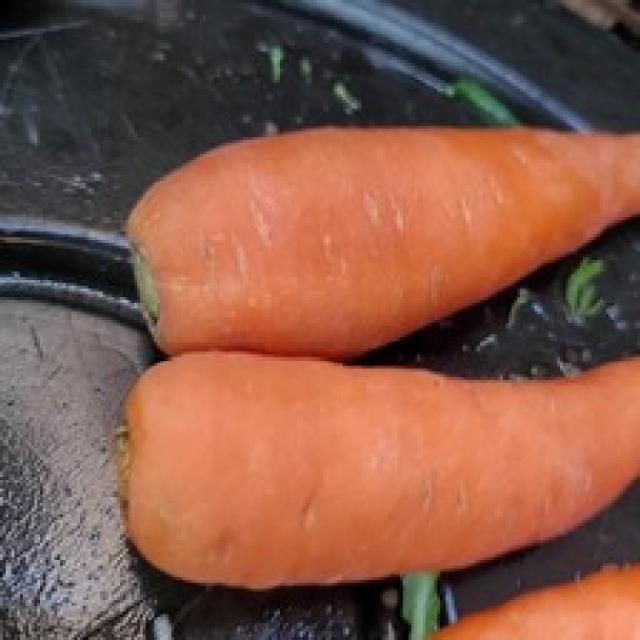Fresh_Carrot: (117, 354, 640, 580), (131, 121, 640, 338)
